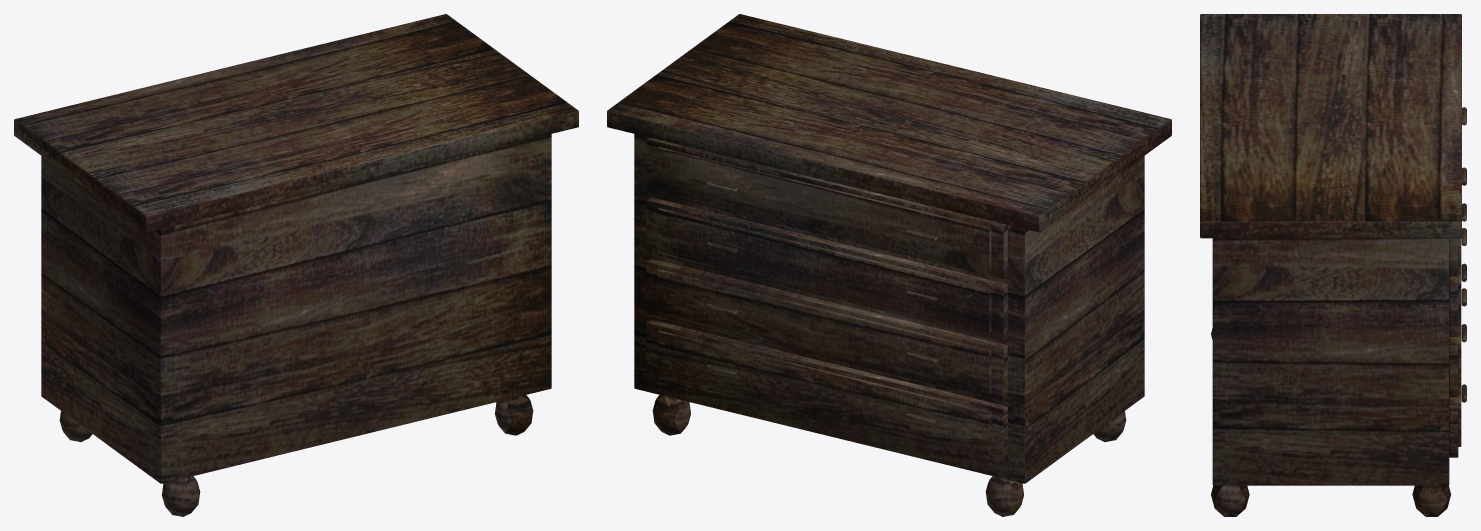
Rendered from Antique_Chest_09.fbx.
The picture shows the model from 3 angles, left to right: view 1: azimuth 30°, elevation 25°; view 2: azimuth 150°, elevation 25°; view 3: azimuth 270°, elevation 25°; orthographic projection.
Parts seen in each view (by area): view 1: Antique_Chest; view 2: Antique_Chest; view 3: Antique_Chest.
Boxes of the visible parts, box(x1,y1,x2,y2) form: Antique_Chest: box(14, 14, 578, 516); Antique_Chest: box(607, 14, 1171, 516); Antique_Chest: box(1200, 14, 1466, 516).
Size of the model in its own units: 1.33 by 0.95 by 0.7205.
1 material, 1 textured.
